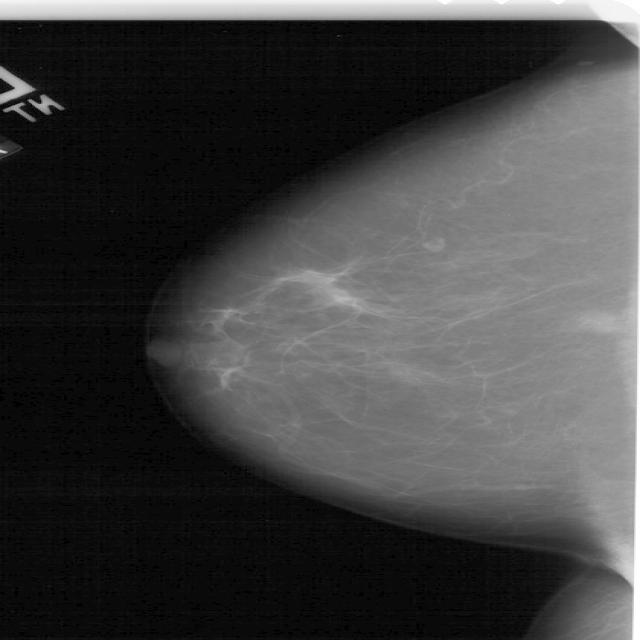tumour: (568, 307, 620, 335)
